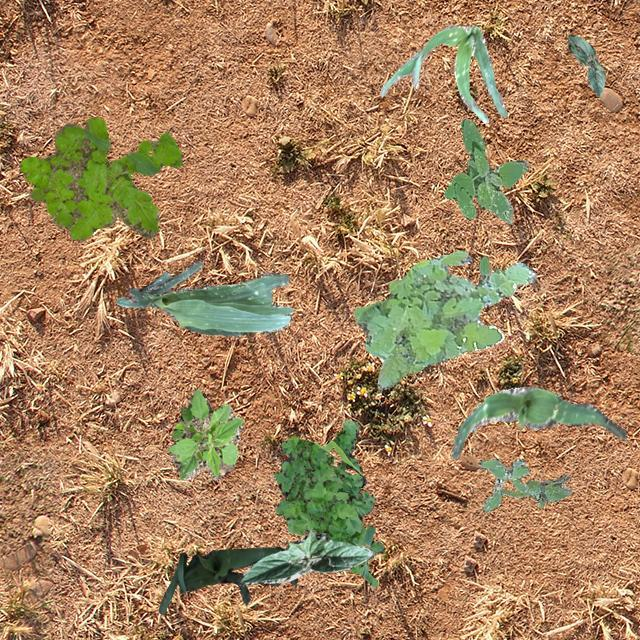crop: (115, 260, 292, 336), (450, 386, 626, 458), (378, 24, 506, 122), (158, 546, 296, 614), (236, 528, 374, 584), (566, 34, 604, 96)
weed: (352, 250, 536, 388), (18, 117, 180, 240), (272, 418, 384, 586), (444, 118, 528, 222), (168, 388, 242, 479), (478, 458, 528, 510), (500, 474, 570, 506), (476, 256, 504, 286)
